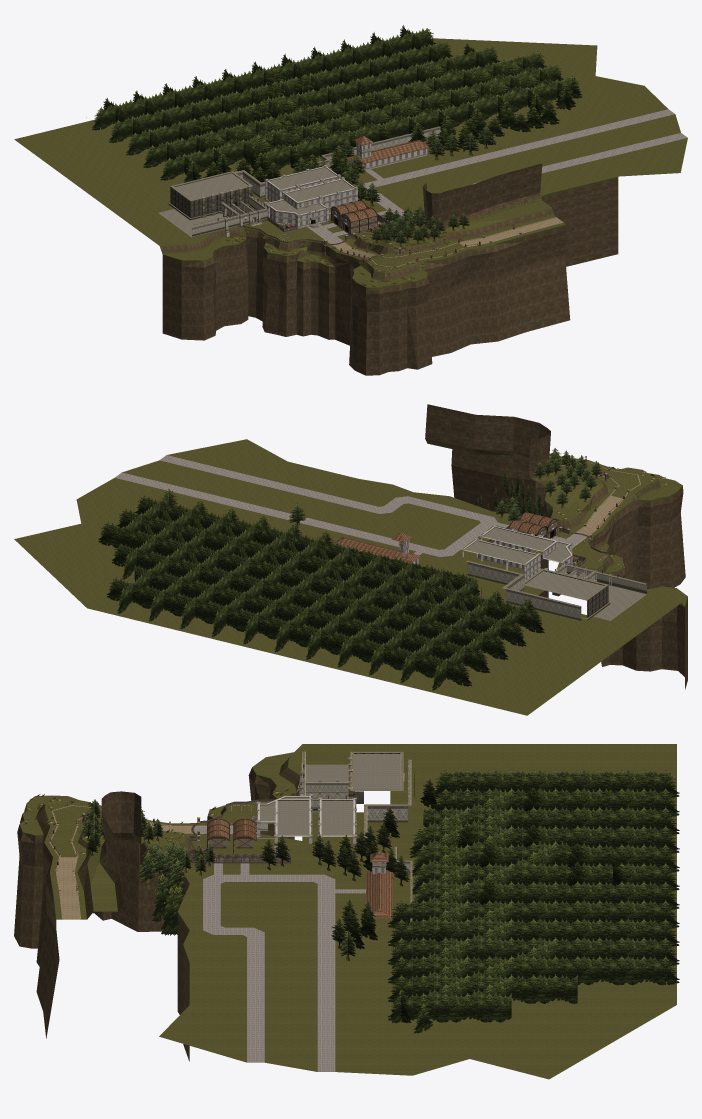
File: PoliceAcademy.obj
3 views of the same model, one above another, from view 1: azimuth 30°, elevation 25°; view 2: azimuth 150°, elevation 25°; view 3: azimuth 270°, elevation 25° (orthographic). The views are drawn at different scales.
Parts seen in each view (by area): view 1: Object.93, Object.17, Object.14, Object.13, Object.7, Object.5, Object.75, Object.27, Object.22, Object.37, Object.8, Object.301 (+67 smaller); view 2: Object.93, Object.75, Object.11, Object.22, Object.286, Object.3, Object.285, Object.283, Object.301, Object.273, Object.2, Object.13 (+58 smaller); view 3: Object.93, Object.75, Object.273, Object.294, Object.292, Object.302, Object.288, Object.285, Object.11, Object.280, Object.283, Object.295 (+70 smaller).
Boxes of the visible parts, bbox=[...] form: Object.93: bbox=[14, 38, 687, 204]; Object.17: bbox=[216, 244, 279, 334]; Object.14: bbox=[286, 267, 350, 345]; Object.13: bbox=[349, 303, 407, 375]; Object.7: bbox=[431, 276, 494, 356]; Object.5: bbox=[522, 254, 570, 331]; Object.75: bbox=[414, 109, 687, 183]; Object.27: bbox=[471, 266, 526, 344]; Object.22: bbox=[162, 264, 216, 340]; Object.37: bbox=[562, 207, 618, 266]; Object.8: bbox=[398, 289, 447, 369]; Object.301: bbox=[458, 74, 535, 115]; Object.93: bbox=[14, 439, 610, 715]; Object.75: bbox=[115, 455, 391, 543]; Object.11: bbox=[610, 524, 659, 588]; Object.22: bbox=[650, 606, 687, 677]; Object.286: bbox=[307, 592, 381, 635]; Object.3: bbox=[473, 414, 538, 451]; Object.285: bbox=[213, 569, 286, 613]; Object.283: bbox=[402, 615, 475, 659]; Object.301: bbox=[173, 500, 247, 550]; Object.273: bbox=[267, 523, 341, 573]; Object.2: bbox=[425, 404, 475, 449]; Object.13: bbox=[658, 512, 685, 587]; Object.93: bbox=[159, 744, 676, 1079]; Object.75: bbox=[247, 911, 335, 1071]; Object.273: bbox=[401, 887, 467, 942]; Object.294: bbox=[599, 899, 665, 942]; Object.292: bbox=[599, 788, 665, 830]; Object.302: bbox=[467, 943, 545, 1000]; Object.288: bbox=[521, 955, 599, 1003]; Object.285: bbox=[525, 899, 599, 942]; Object.11: bbox=[93, 842, 159, 931]; Object.280: bbox=[467, 831, 545, 884]; Object.283: bbox=[525, 787, 599, 830]; Object.295: bbox=[599, 843, 665, 886].
Size of the model in its own units: 360 by 94.25 by 306.
28 materials, 28 textured.
